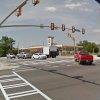Crosswalk: (3, 66, 42, 99)
